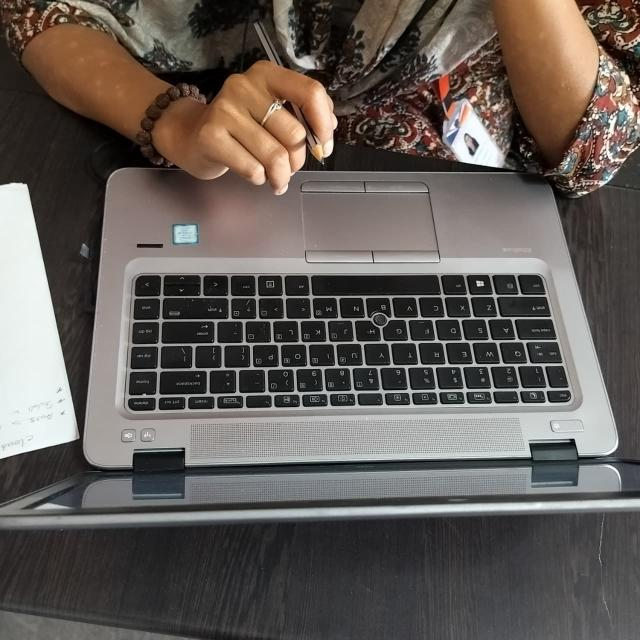laptop: (9, 148, 640, 574)
